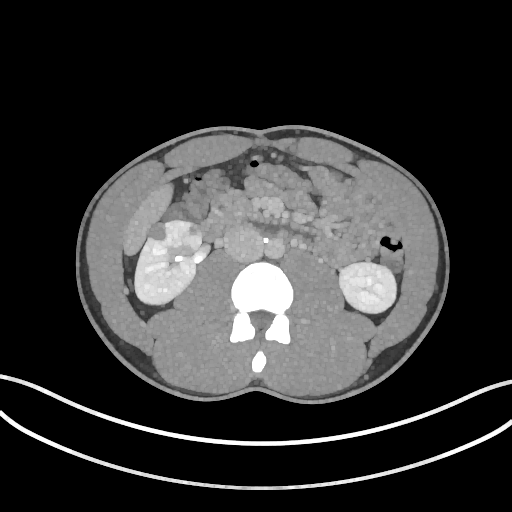Lesion: (144, 216, 167, 242)
